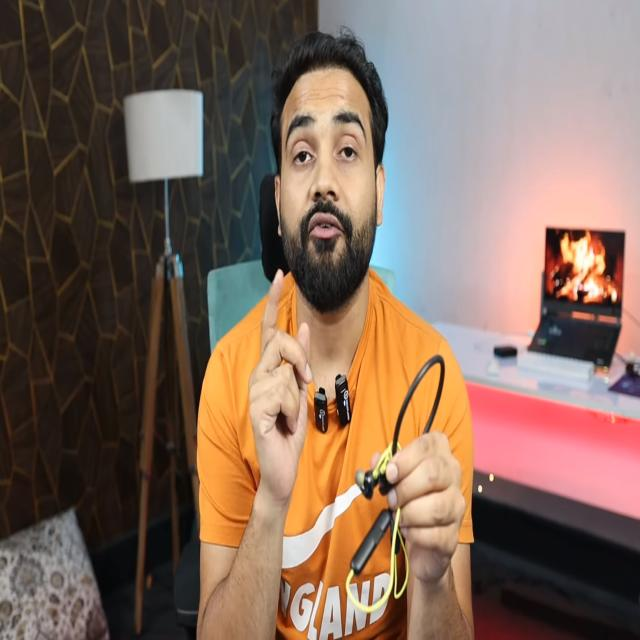Neckband: (344, 353, 446, 614)
